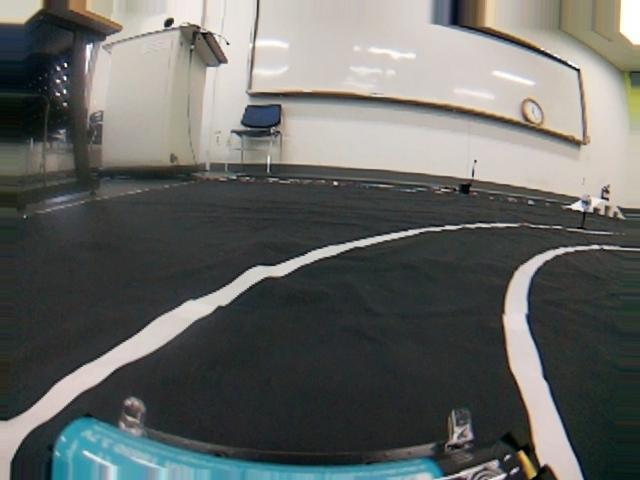right: (5, 202, 640, 480)
